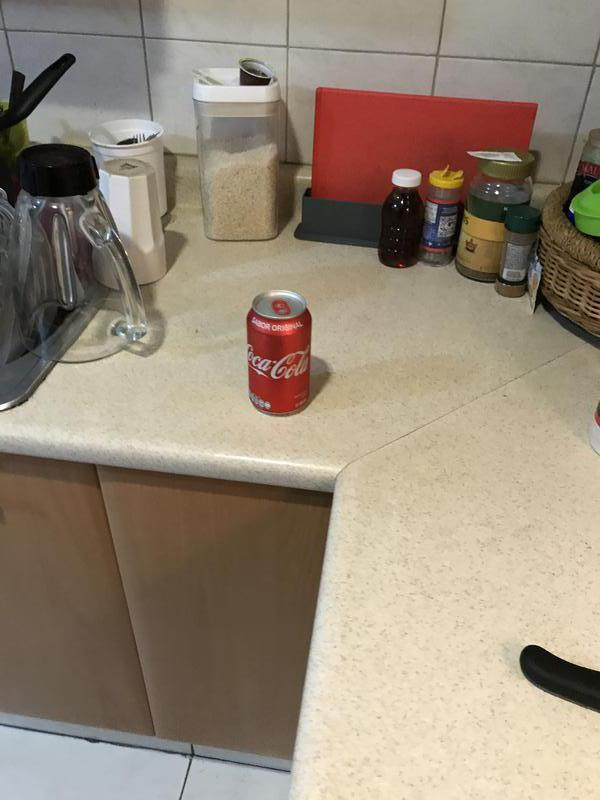coca_cola: (246, 288, 312, 415)
